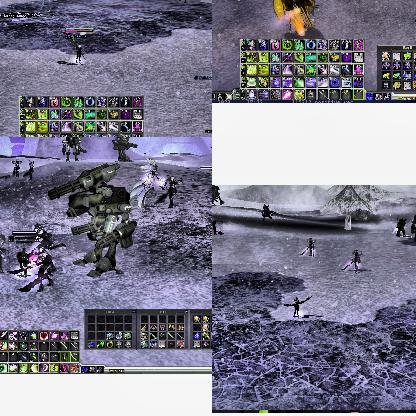caliana: (30, 245, 54, 291), (340, 248, 362, 274), (299, 237, 315, 257), (0, 233, 7, 273), (23, 159, 35, 179), (12, 158, 22, 176), (212, 220, 223, 235)
